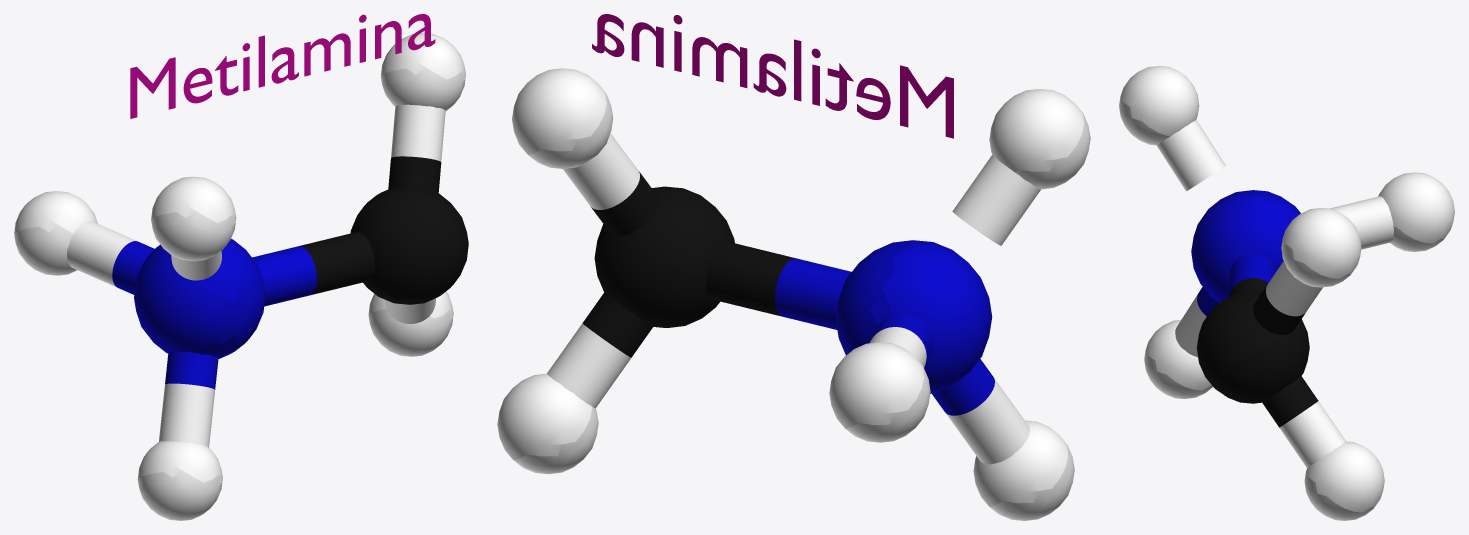
The model's file is metilamina.obj.
The picture shows the model from 3 angles, left to right: view 1: azimuth 30°, elevation 25°; view 2: azimuth 150°, elevation 25°; view 3: azimuth 270°, elevation 25°; orthographic projection. The views are drawn at different scales.
Parts seen in each view (by area): view 1: Shape_IndexedFaceSet.009_Shape_IndexedFaceSet.329, Shape_IndexedFaceSet.025_Shape_IndexedFaceSet.331, Shape_IndexedFaceSet.017_Shape_IndexedFaceSet.330, Text_Text.024; view 2: Shape_IndexedFaceSet.009_Shape_IndexedFaceSet.329, Shape_IndexedFaceSet.017_Shape_IndexedFaceSet.330, Shape_IndexedFaceSet.025_Shape_IndexedFaceSet.331, Text_Text.024; view 3: Shape_IndexedFaceSet.009_Shape_IndexedFaceSet.329, Shape_IndexedFaceSet.017_Shape_IndexedFaceSet.330, Shape_IndexedFaceSet.025_Shape_IndexedFaceSet.331.
Boxes of the visible parts, x1,y1,x2,y2 form: Shape_IndexedFaceSet.009_Shape_IndexedFaceSet.329: (14, 33, 465, 520); Shape_IndexedFaceSet.025_Shape_IndexedFaceSet.331: (112, 239, 316, 389); Shape_IndexedFaceSet.017_Shape_IndexedFaceSet.330: (300, 156, 468, 304); Text_Text.024: (130, 14, 435, 118); Shape_IndexedFaceSet.009_Shape_IndexedFaceSet.329: (497, 68, 1090, 520); Shape_IndexedFaceSet.017_Shape_IndexedFaceSet.330: (582, 171, 795, 357); Shape_IndexedFaceSet.025_Shape_IndexedFaceSet.331: (775, 240, 994, 415); Text_Text.024: (592, 14, 953, 138); Shape_IndexedFaceSet.009_Shape_IndexedFaceSet.329: (1119, 66, 1454, 520); Shape_IndexedFaceSet.017_Shape_IndexedFaceSet.330: (1196, 278, 1318, 427); Shape_IndexedFaceSet.025_Shape_IndexedFaceSet.331: (1191, 190, 1300, 316).
Bounding box in the file's own units: 26.75 × 26.68 × 21.16.
